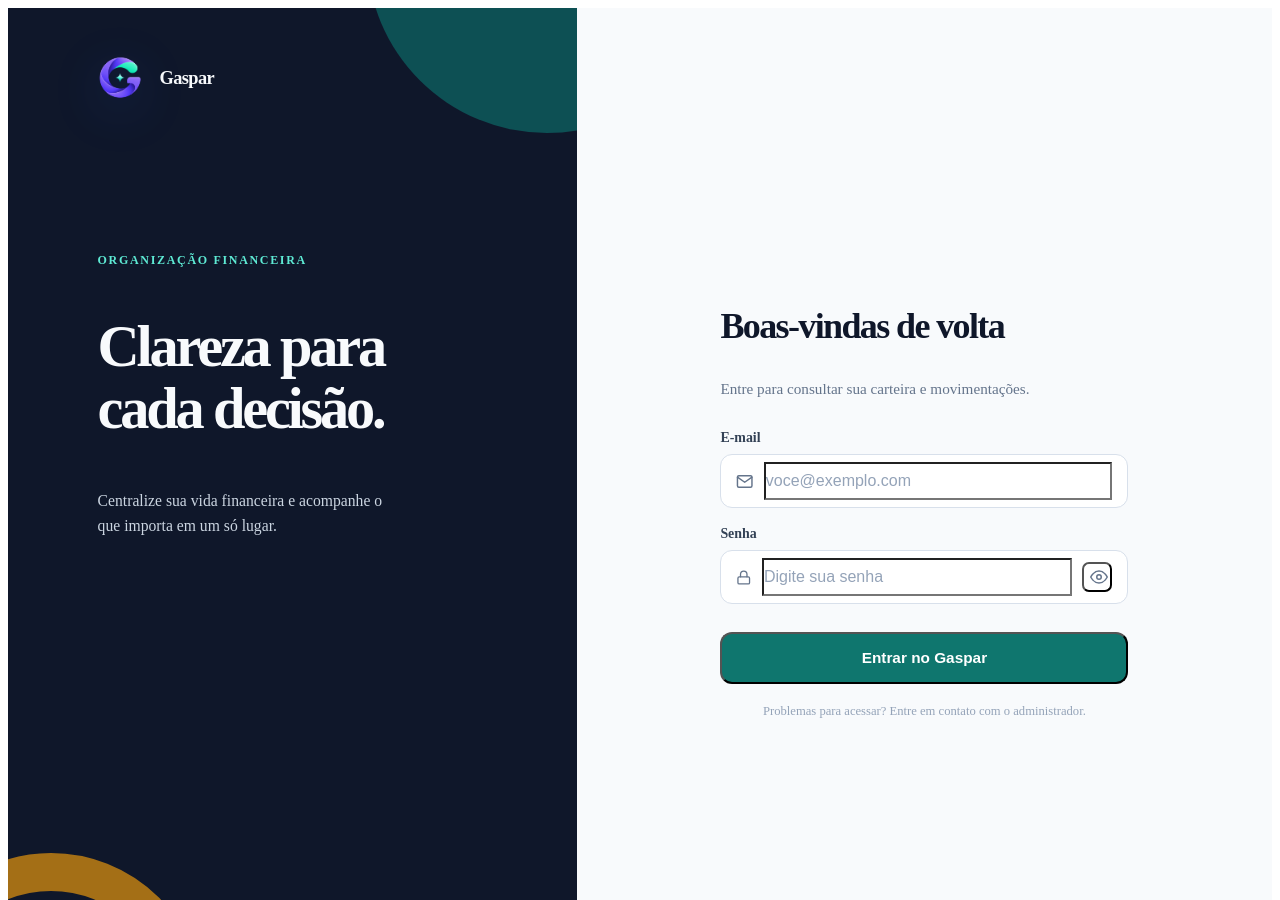
Test: 429 is handled by the login form with no automatic retry
Type "test@example.test" into the field with placeholder "voce@exemplo.com".
click(938, 481); type("test@example.test")  # box [764,462,1112,500]
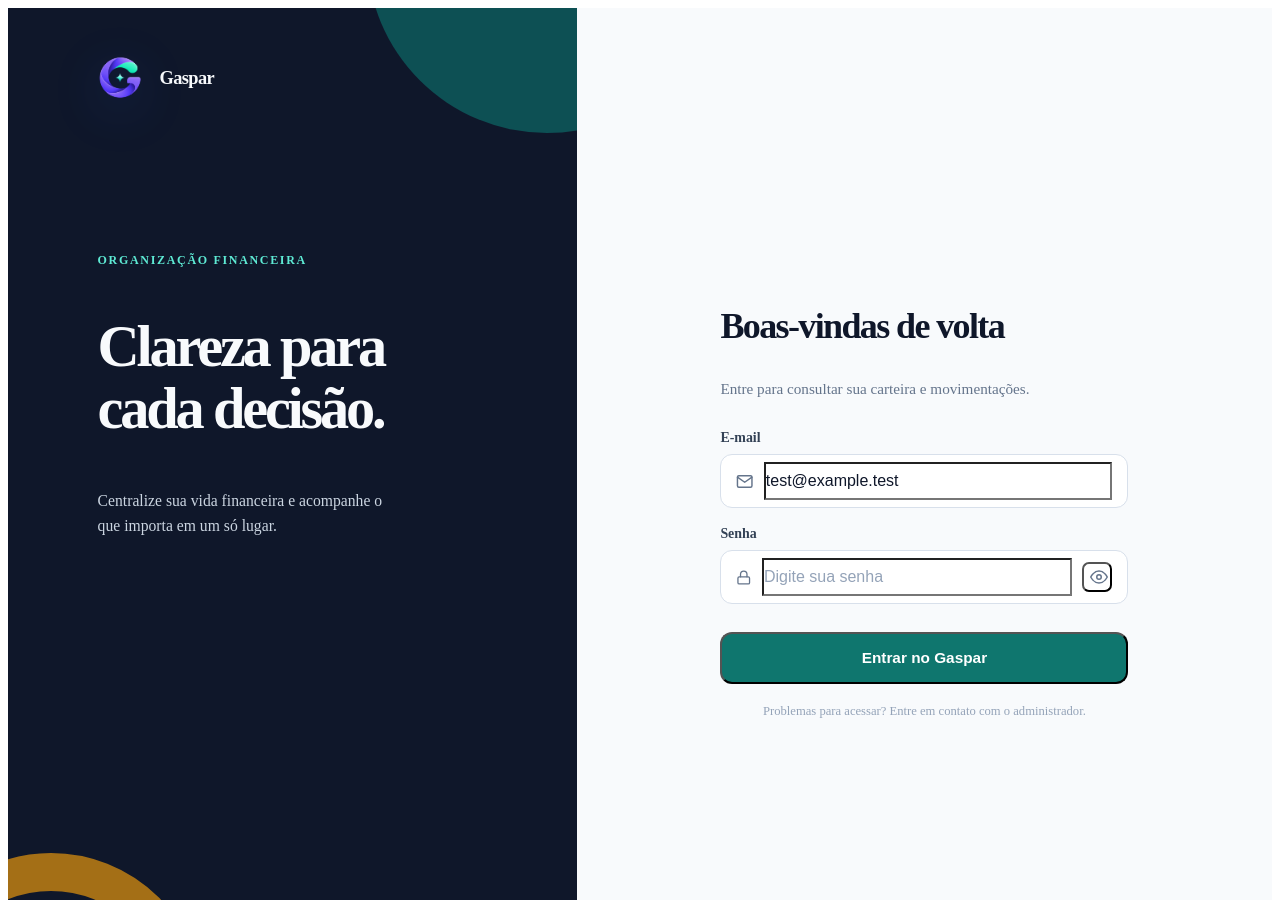
Type "test-password" into the password field with placeholder "Digite sua senha".
click(917, 577); type("test-password")  # box [762,558,1072,596]
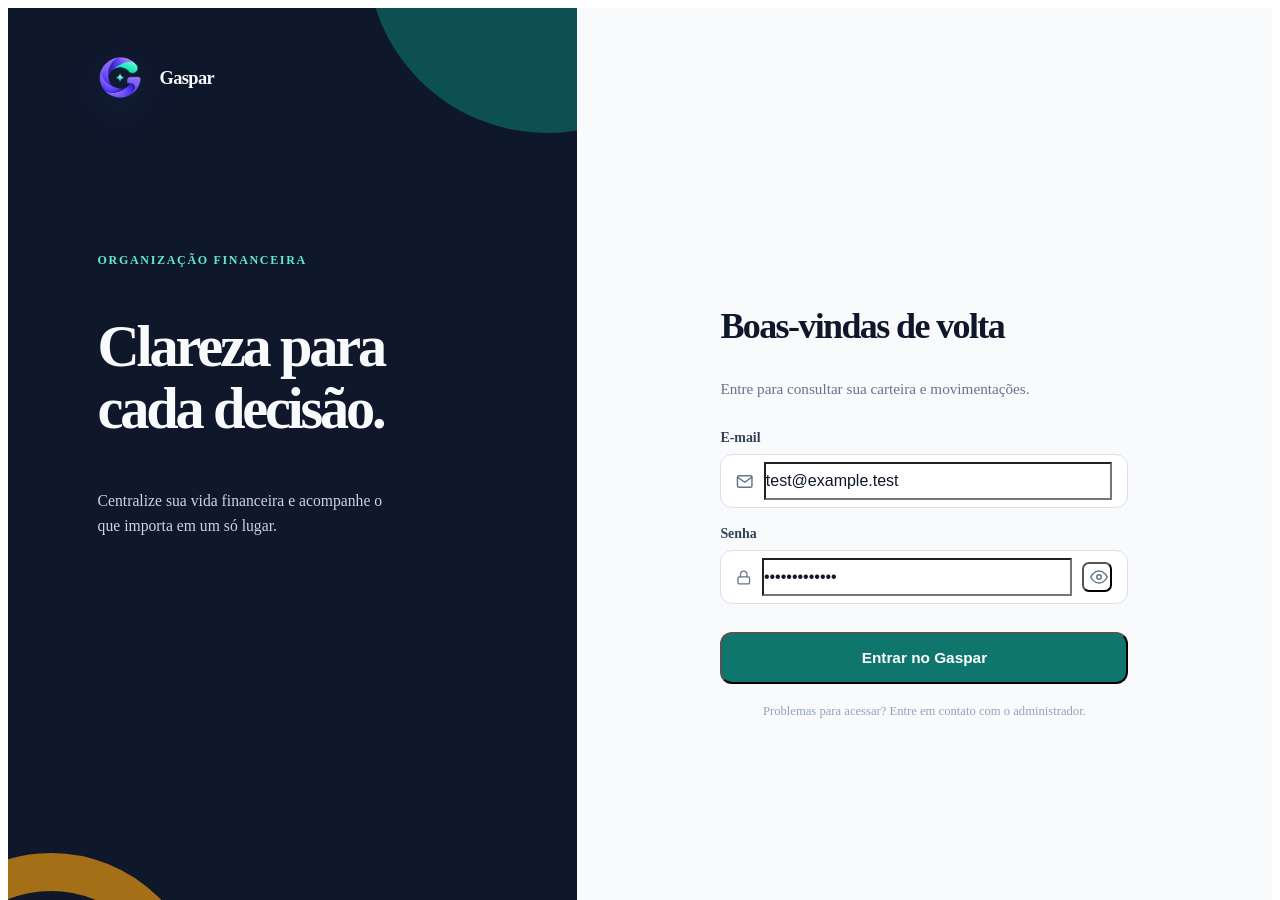
Submit the form named "Entrar no Gaspar", box [720,277,1128,734]
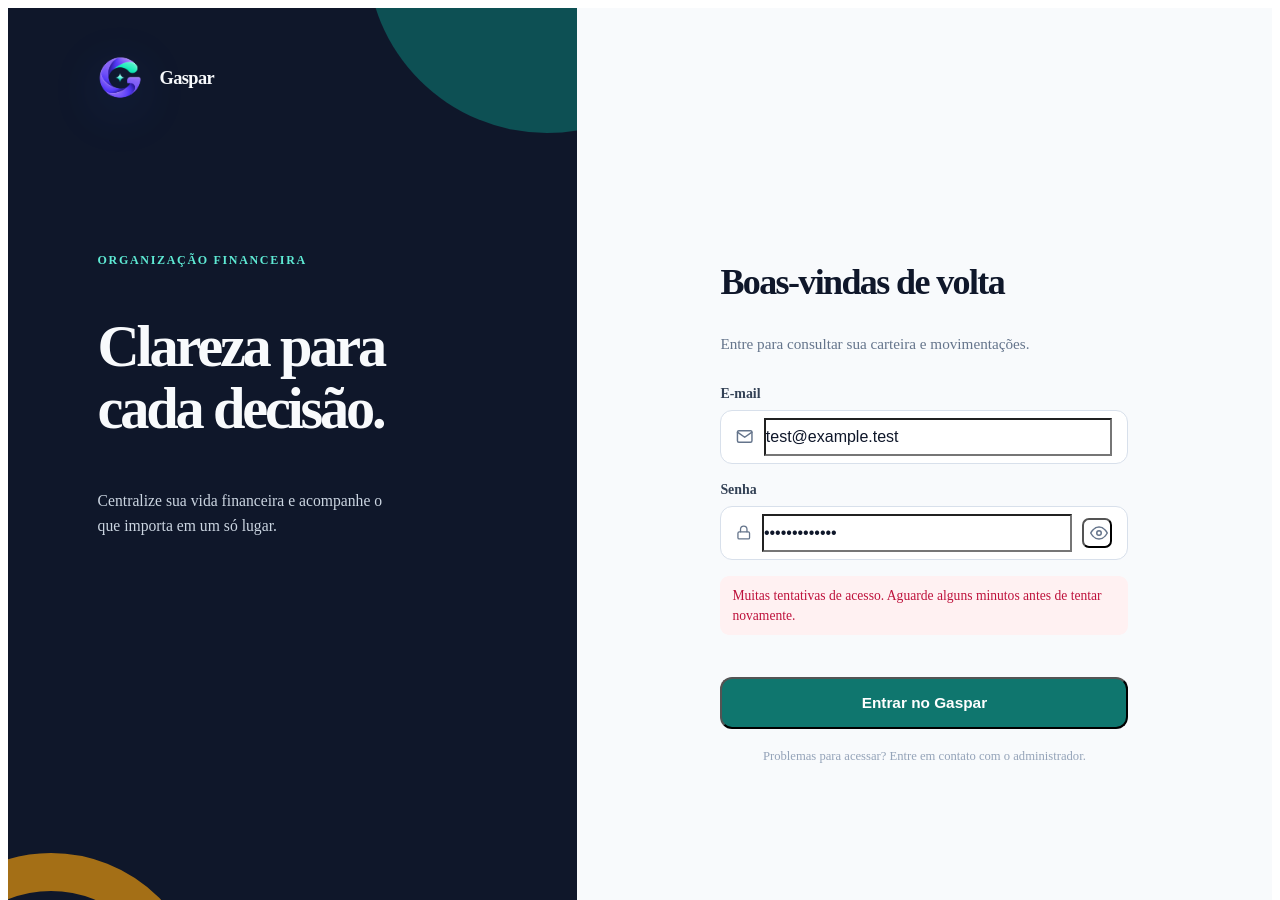
expect the message shows "Muitas tentativas de acesso": met, box [732,588,1102,622]
